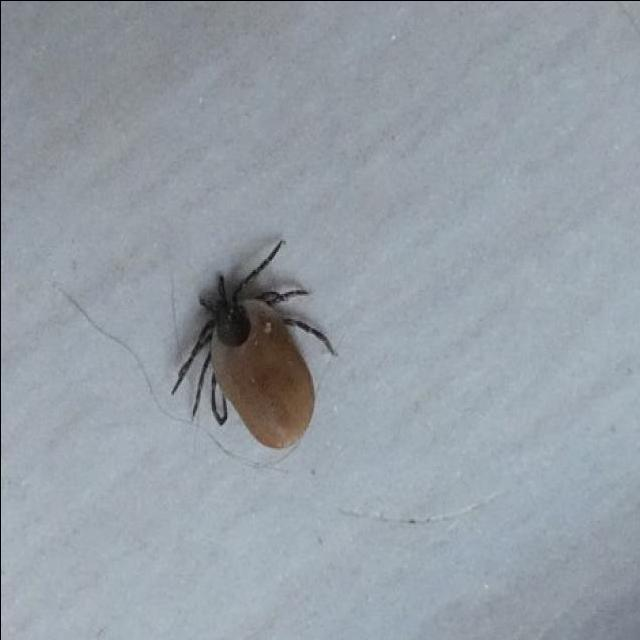Ixodes Ricinus-F-Fed: (172, 236, 332, 451)
